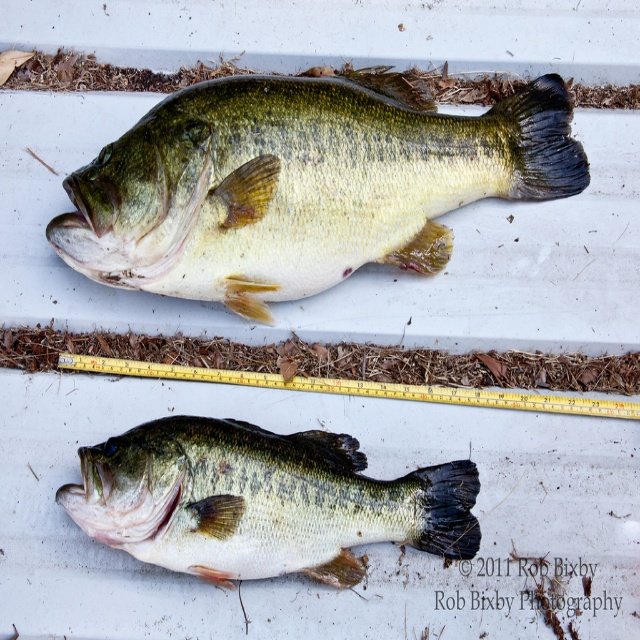Fish: (46, 74, 590, 327), (55, 415, 482, 591)
